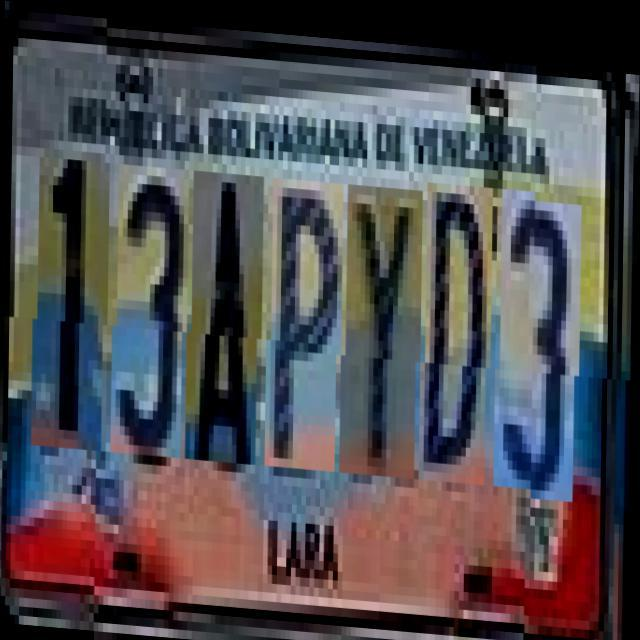1: (37, 156, 110, 458)
3: (499, 180, 582, 482), (116, 162, 190, 455)
A: (191, 167, 264, 460)
D: (424, 174, 494, 476)
P: (270, 172, 344, 466)
Y: (345, 178, 423, 472)
